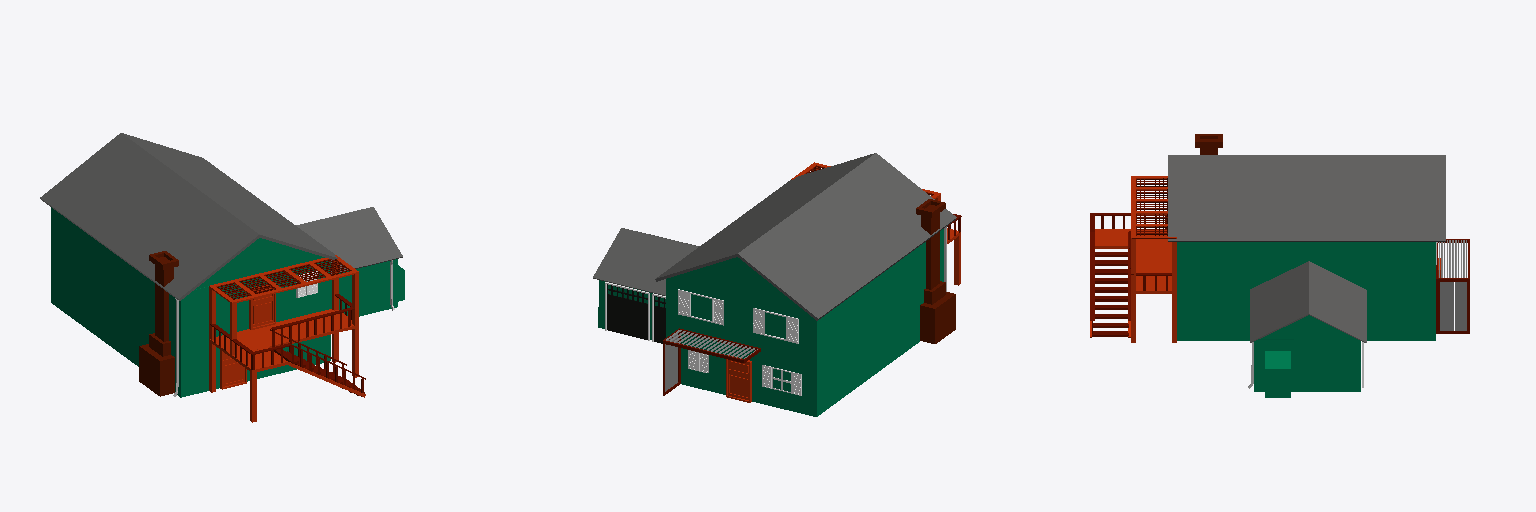
File: CasaVerde.obj
3 views of the same model, side by side, from view 1: azimuth 30°, elevation 25°; view 2: azimuth 150°, elevation 25°; view 3: azimuth 270°, elevation 25° (orthographic).
Parts seen in each view (by area): view 1: Plane.006, Cube.006, Cube.004, Plane.005, Plane.007, Cube.007, Cube.008, Plane.044, Plane.039, Plane.096, Plane.095, Plane.043 (+1 smaller); view 2: Plane.006, Cube.006, Cube.004, Plane.005, Plane.008, Cube.007, Cube.045, Plane.104, Plane.074, Plane.057, Plane.056, Cube.008; view 3: Plane.005, Cube.006, Cube.004, Cube.008, Plane.007, Plane.008, Cube.045, Plane.040, Plane.044, Cube.009, Plane.039, Plane.043.
Part boxes in pixels (x1,y1,x2,y2): Plane.006: (40, 133, 259, 300); Cube.006: (51, 207, 330, 344); Cube.004: (51, 251, 330, 397); Plane.005: (122, 133, 337, 259); Plane.007: (296, 207, 402, 273); Cube.007: (139, 251, 178, 396); Cube.008: (331, 259, 397, 316); Plane.044: (210, 309, 354, 357); Plane.039: (217, 259, 350, 299); Plane.096: (249, 283, 275, 329); Plane.095: (220, 350, 246, 389); Plane.043: (232, 347, 287, 372); Plane.006: (736, 153, 956, 320); Cube.006: (666, 229, 943, 364); Cube.004: (666, 272, 943, 416); Plane.005: (655, 153, 874, 281); Plane.008: (593, 228, 697, 295); Cube.007: (916, 199, 955, 343); Cube.045: (663, 328, 760, 395); Plane.104: (607, 284, 647, 339); Plane.074: (726, 355, 801, 402); Plane.057: (753, 308, 798, 343); Plane.056: (678, 289, 723, 325); Cube.008: (598, 280, 665, 339); Plane.005: (1168, 155, 1445, 241); Cube.006: (1177, 242, 1435, 288); Cube.004: (1177, 289, 1435, 340); Cube.008: (1254, 315, 1360, 391); Plane.007: (1250, 261, 1308, 342); Plane.008: (1309, 261, 1366, 342); Cube.045: (1436, 239, 1469, 333); Plane.040: (1092, 252, 1128, 336); Plane.044: (1136, 230, 1171, 293); Cube.009: (1265, 351, 1290, 397); Plane.039: (1132, 178, 1175, 238); Plane.043: (1095, 229, 1130, 248).
Size of the model in its own units: 15.99 by 8.14 by 18.52.